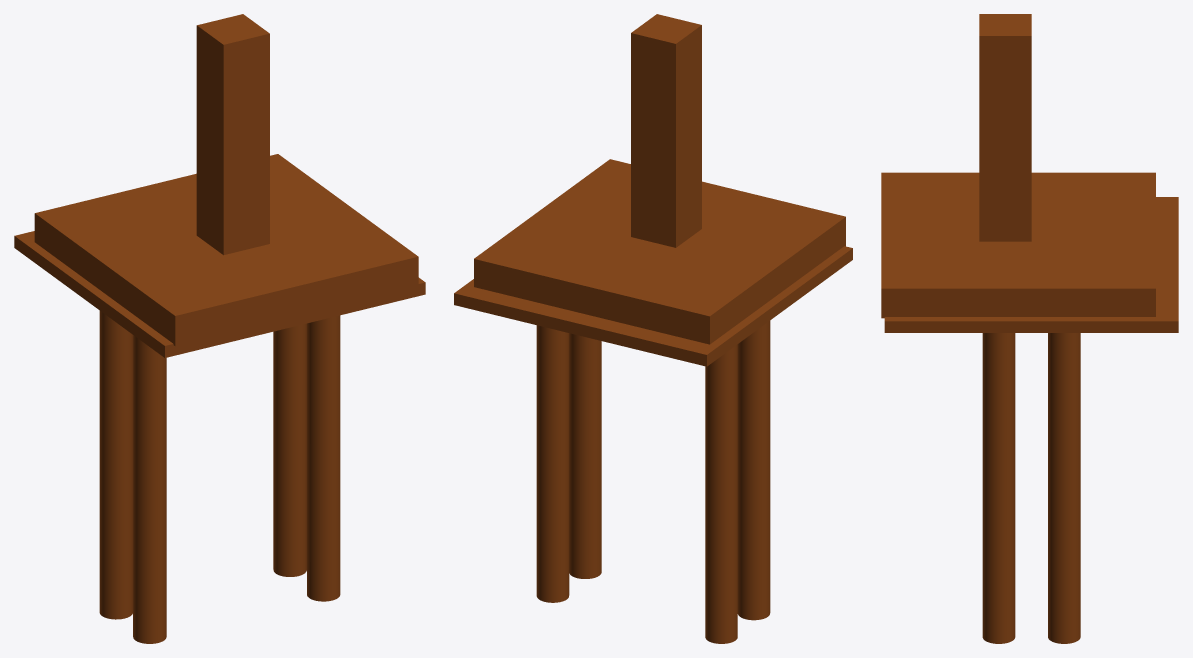
Rendered from chair.glb.
The picture shows the model from 3 angles, left to right: view 1: azimuth 30°, elevation 25°; view 2: azimuth 150°, elevation 25°; view 3: azimuth 270°, elevation 25°; orthographic projection. The views are drawn at different scales.
Parts seen in each view (by area): view 1: chair_seat, chair_backrest, chair_leg_br, chair_leg_fr, chair_leg_fl, chair_leg_bl, chair_base; view 2: chair_seat, chair_backrest, chair_leg_fr, chair_leg_br, chair_leg_bl, chair_base, chair_leg_fl; view 3: chair_seat, chair_backrest, chair_leg_fl, chair_leg_bl, chair_base.
Part boxes in pixels (bbox=[...]): chair_seat: bbox=[34, 154, 418, 346]; chair_backrest: bbox=[196, 14, 269, 255]; chair_leg_br: bbox=[99, 311, 132, 619]; chair_leg_fr: bbox=[133, 335, 166, 643]; chair_leg_fl: bbox=[307, 315, 340, 601]; chair_leg_bl: bbox=[273, 323, 306, 576]; chair_base: bbox=[14, 231, 425, 357]; chair_seat: bbox=[474, 159, 845, 344]; chair_backrest: bbox=[631, 14, 701, 247]; chair_leg_fr: bbox=[737, 320, 770, 620]; chair_leg_br: bbox=[705, 344, 737, 643]; chair_leg_bl: bbox=[536, 325, 569, 602]; chair_base: bbox=[454, 246, 852, 366]; chair_leg_fl: bbox=[569, 333, 601, 578]; chair_seat: bbox=[881, 172, 1155, 318]; chair_backrest: bbox=[979, 14, 1031, 241]; chair_leg_fl: bbox=[982, 333, 1015, 643]; chair_leg_bl: bbox=[1048, 333, 1080, 643]; chair_base: bbox=[884, 197, 1178, 332].
Size of the model in its own units: 0.45 by 0.963 by 0.455.
